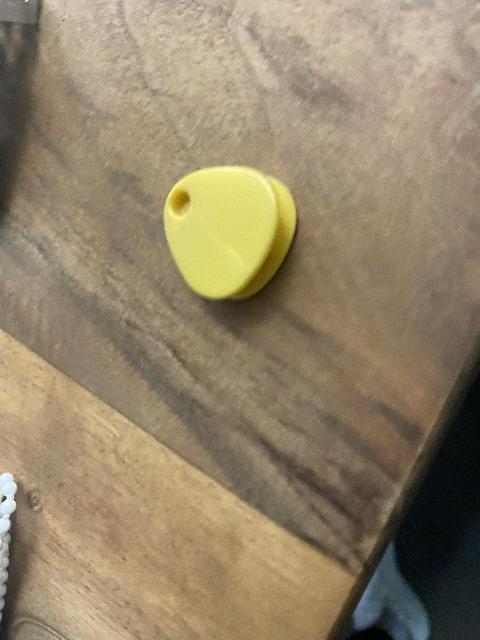Plastik: (165, 168, 298, 295)
